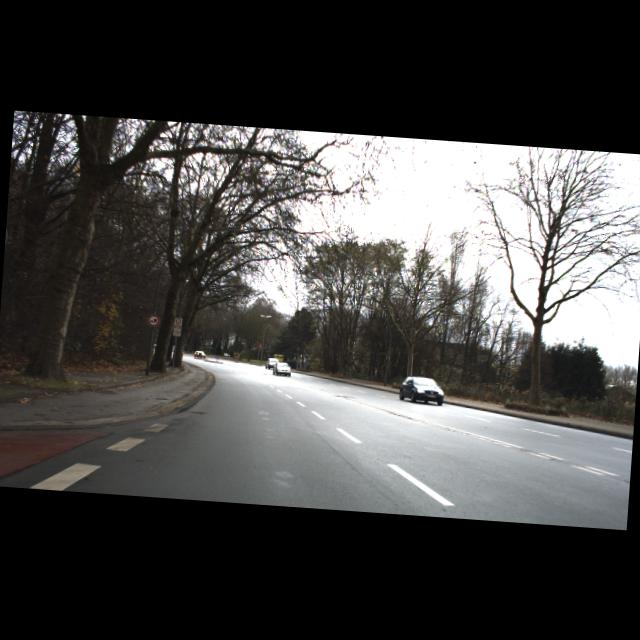prohibitory: (146, 312, 160, 326)
